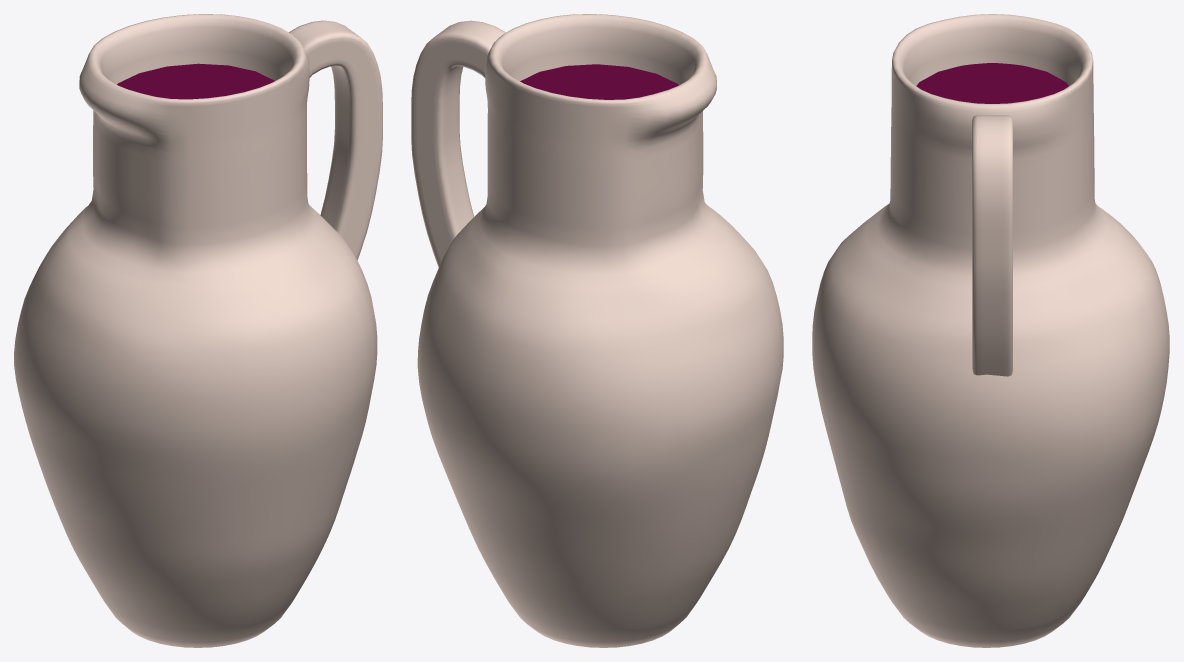
Rendered from purple_jug.obj.
3 renders of one model, left to right at view 1: azimuth 30°, elevation 25°; view 2: azimuth 150°, elevation 25°; view 3: azimuth 270°, elevation 25°, orthographic.
Visible parts, largest first — view 1: Cylinder002; view 2: Cylinder002; view 3: Cylinder002.
Boxes of the visible parts, bbox=[...] form: Cylinder002: bbox=[14, 14, 382, 647]; Cylinder002: bbox=[411, 14, 783, 647]; Cylinder002: bbox=[812, 14, 1169, 647].
Size of the model in its own units: 21.79 by 34.82 by 19.99.
